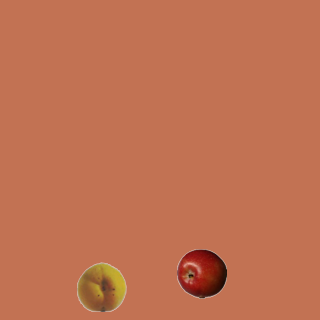Apple Braeburn: (176, 248, 226, 298)
Peach 2: (76, 261, 126, 311)
